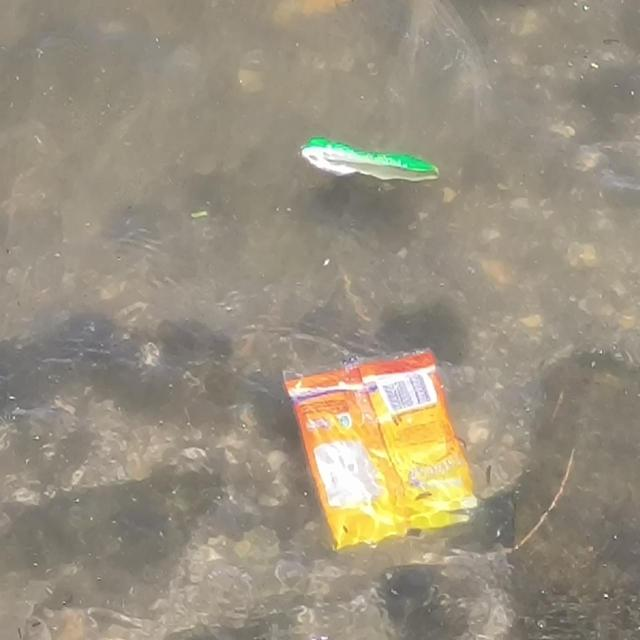plastic_waste: (288, 354, 484, 556), (303, 138, 438, 181)
